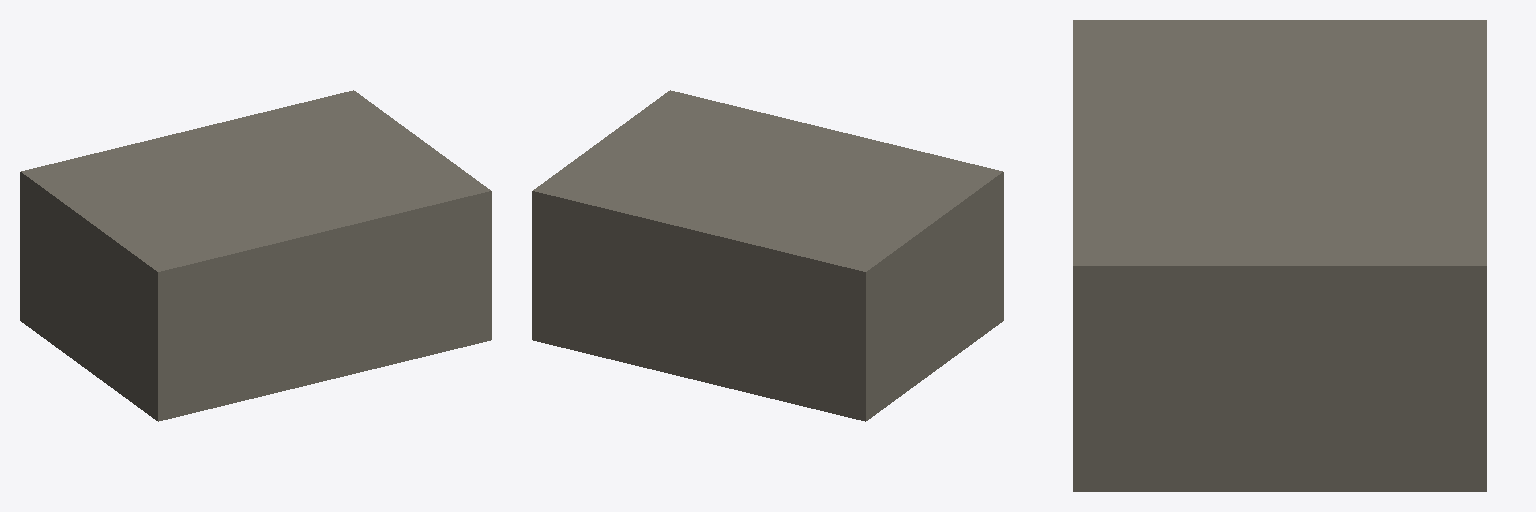
URDF robot description (parttoolgen_brush_sweep_block_medium_table):
<?xml version="1.0"?>
<robot name="parttoolgen_brush_sweep_block_medium_table">
  <link name="box">
    <visual>
      <material name="light_wood">
        <color rgba="0.52 0.50 0.46 1.0"/>
      </material>
      <origin xyz="0 0 0"/>
      <geometry>
        <box size="0.70 0.50 0.30"/>
      </geometry>
    </visual>
    <collision>
      <origin xyz="0 0 0"/>
      <geometry>
        <box size="0.70 0.50 0.30"/>
      </geometry>
    </collision>
    <inertial>
      <mass value="500"/>
      <friction value="1.0"/>
      <inertia ixx="1000.0" ixy="0.0" ixz="0.0" iyy="1000.0" iyz="0.0" izz="1000.0"/>
    </inertial>
  </link>
</robot>

--- Facts derived from the render (not from the file) ---
Views: 3 orthographic renders of the robot side by side, from view 1: azimuth 30°, elevation 25°; view 2: azimuth 150°, elevation 25°; view 3: azimuth 270°, elevation 25°.
Robot: parttoolgen_brush_sweep_block_medium_table — 1 links, 0 joints (none); root link box; default pose: all joints at 0.
Links seen in each view (by area): view 1: box; view 2: box; view 3: box.
Link boxes in pixels (box(x1,y1,x2,y2)): box: box(20, 90, 491, 421); box: box(532, 90, 1003, 421); box: box(1073, 20, 1486, 491).
Bounding box of the posed robot: 0.7 × 0.5 × 0.3 m (x, y, z).
Geometry: primitives only (box / cylinder / sphere), no mesh files.
